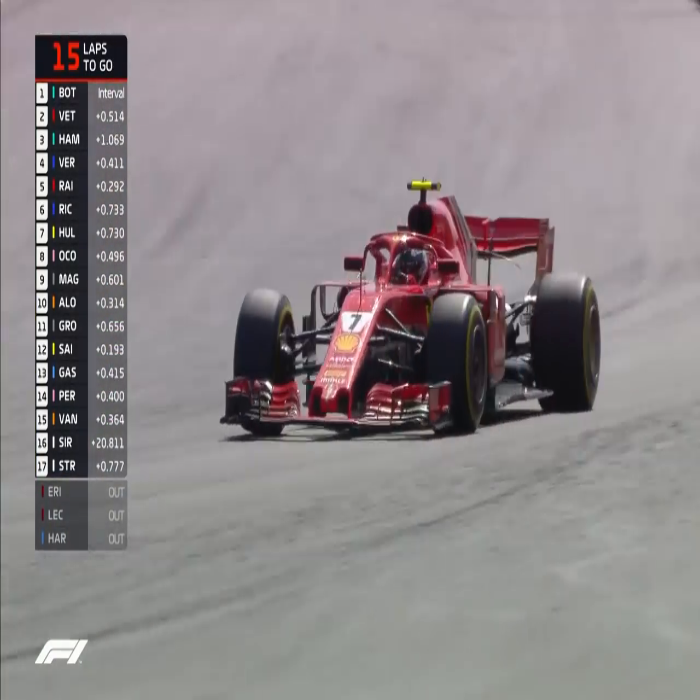f1_car: (219, 173, 626, 436)
